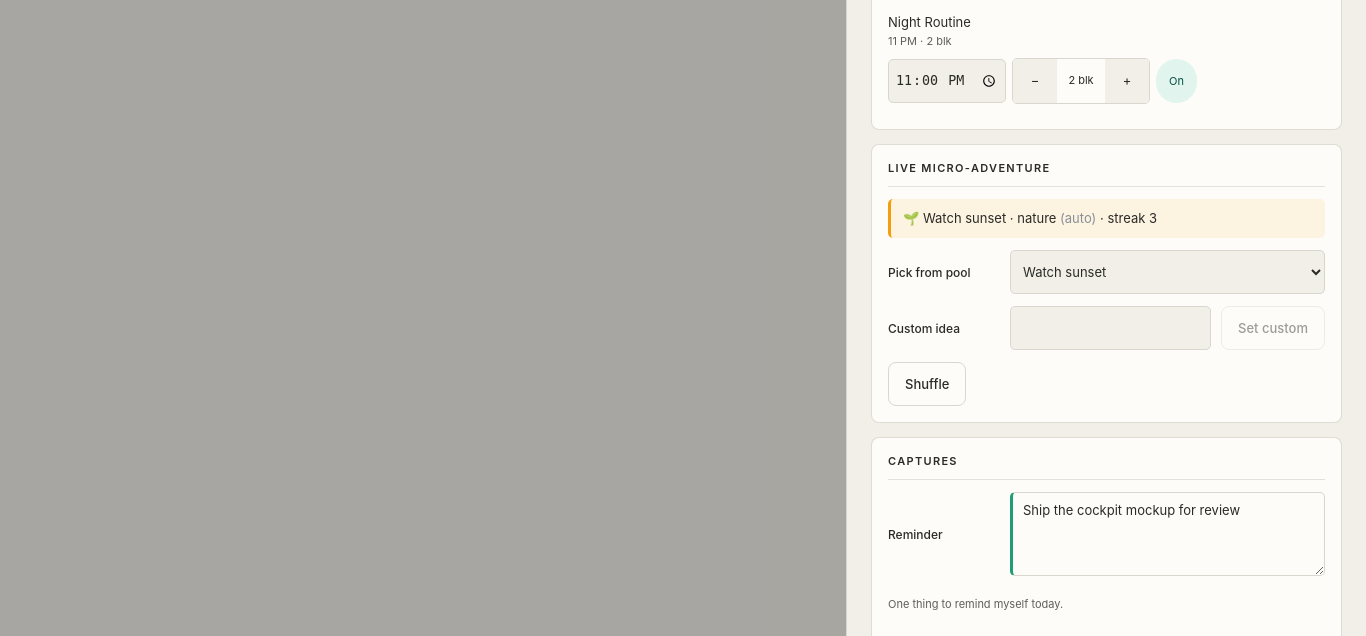
Test: SetupDrawer Live section › renders the pick, streak, and pool controls; Shuffle advances the pick
(page scrolled)
Expected: the heading "Live micro-adventure" is shown, x1=888 y1=161 x2=1050 y2=177
Expected: the text "🌱 Watch sunset · nature (auto)" is shown, x1=903 y1=210 x2=1096 y2=226
Click the button "Shuffle": (927, 384) x1=888 y1=362 x2=966 y2=406
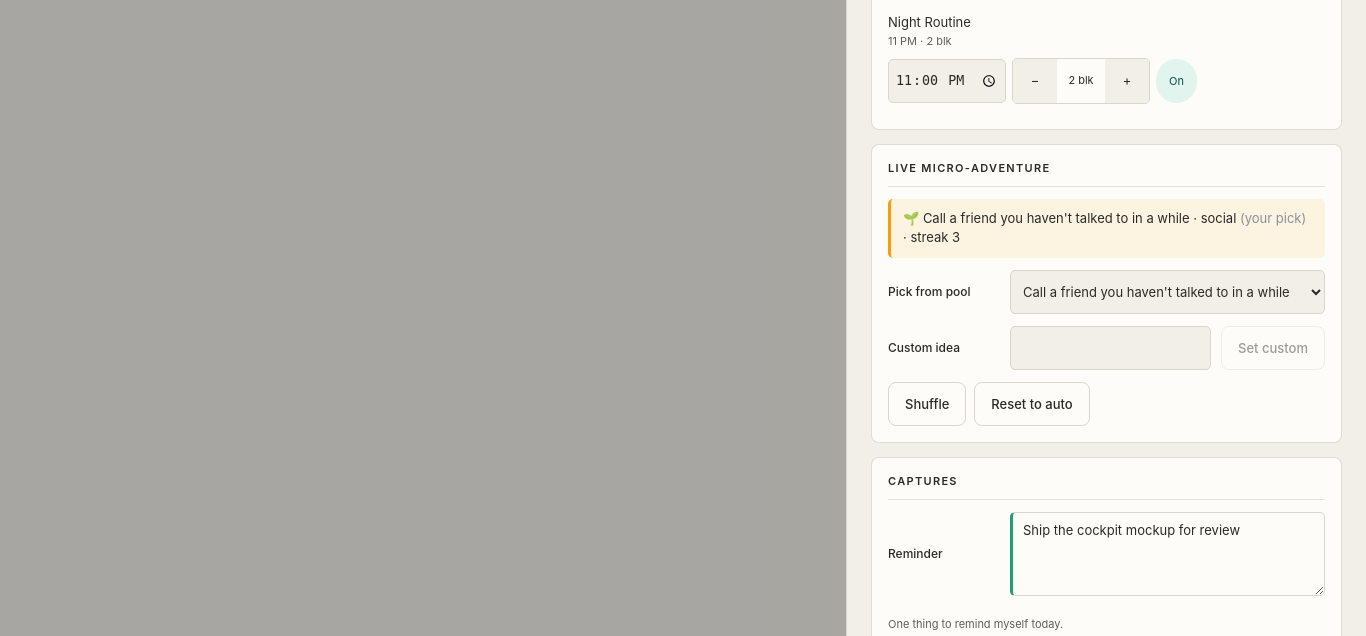
Expected: the button "Reset to auto" is shown, x1=974 y1=382 x2=1090 y2=426
